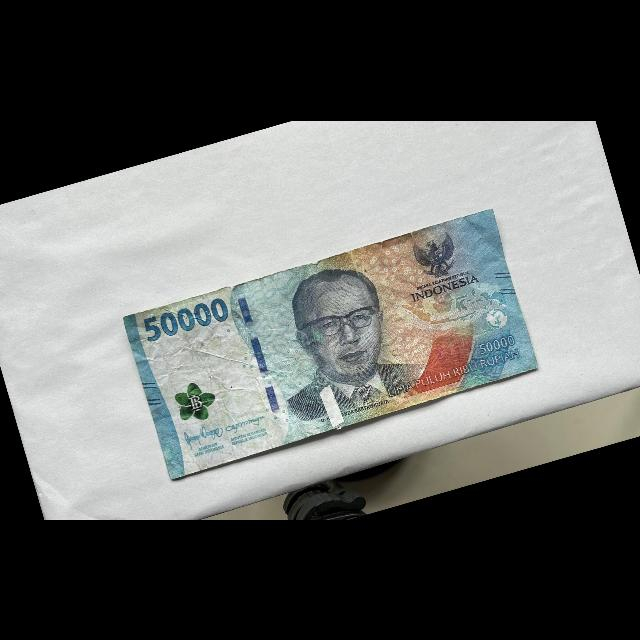Palsu-50k: (118, 203, 543, 483)
Tinta-Palsu-50k: (170, 375, 222, 427)
